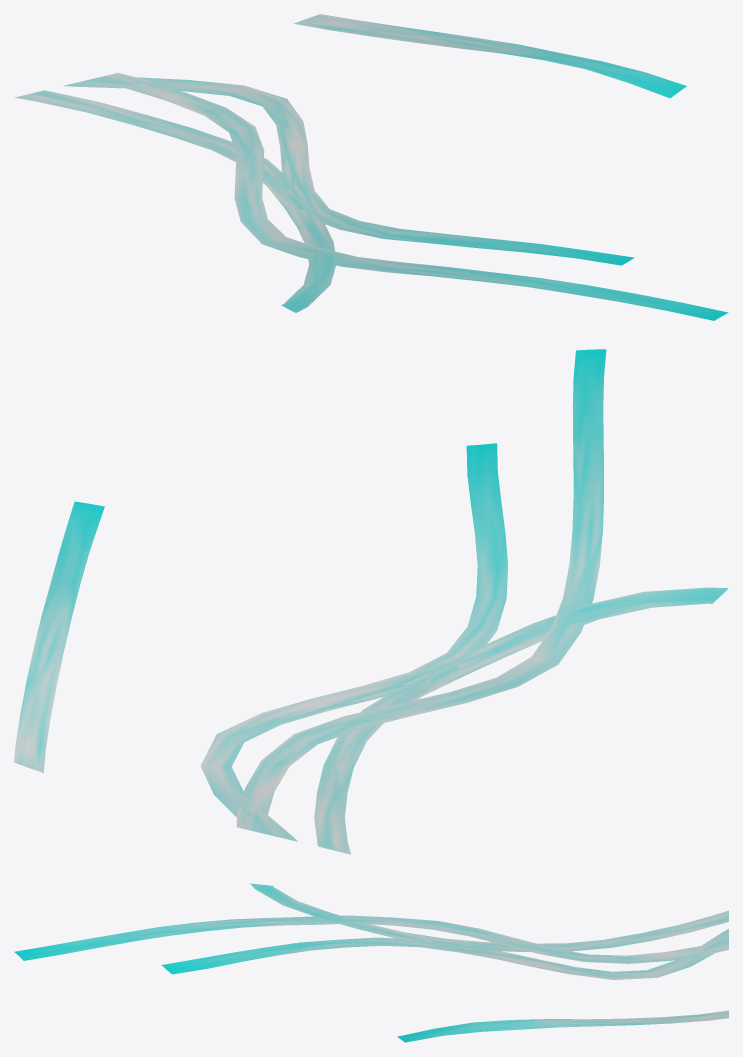
3 views of the same model, one above another, from view 1: azimuth 30°, elevation 25°; view 2: azimuth 150°, elevation 25°; view 3: azimuth 270°, elevation 25° (orthographic). The views are drawn at different scales.
Parts seen in each view (by area): view 1: SpaceCenter_Long3_GenerateRoad_Sand_TireTracks_Width_Mesh_x1; view 2: SpaceCenter_Long3_GenerateRoad_Sand_TireTracks_Width_Mesh_x1; view 3: SpaceCenter_Long3_GenerateRoad_Sand_TireTracks_Width_Mesh_x1.
Boxes of the visible parts, x1=… form: SpaceCenter_Long3_GenerateRoad_Sand_TireTracks_Width_Mesh_x1: x1=15, y1=14, x2=728, y2=320; SpaceCenter_Long3_GenerateRoad_Sand_TireTracks_Width_Mesh_x1: x1=14, y1=349, x2=728, y2=854; SpaceCenter_Long3_GenerateRoad_Sand_TireTracks_Width_Mesh_x1: x1=14, y1=883, x2=728, y2=1042.
Size of the model in its own units: 1211 by 739 by 87.59.
